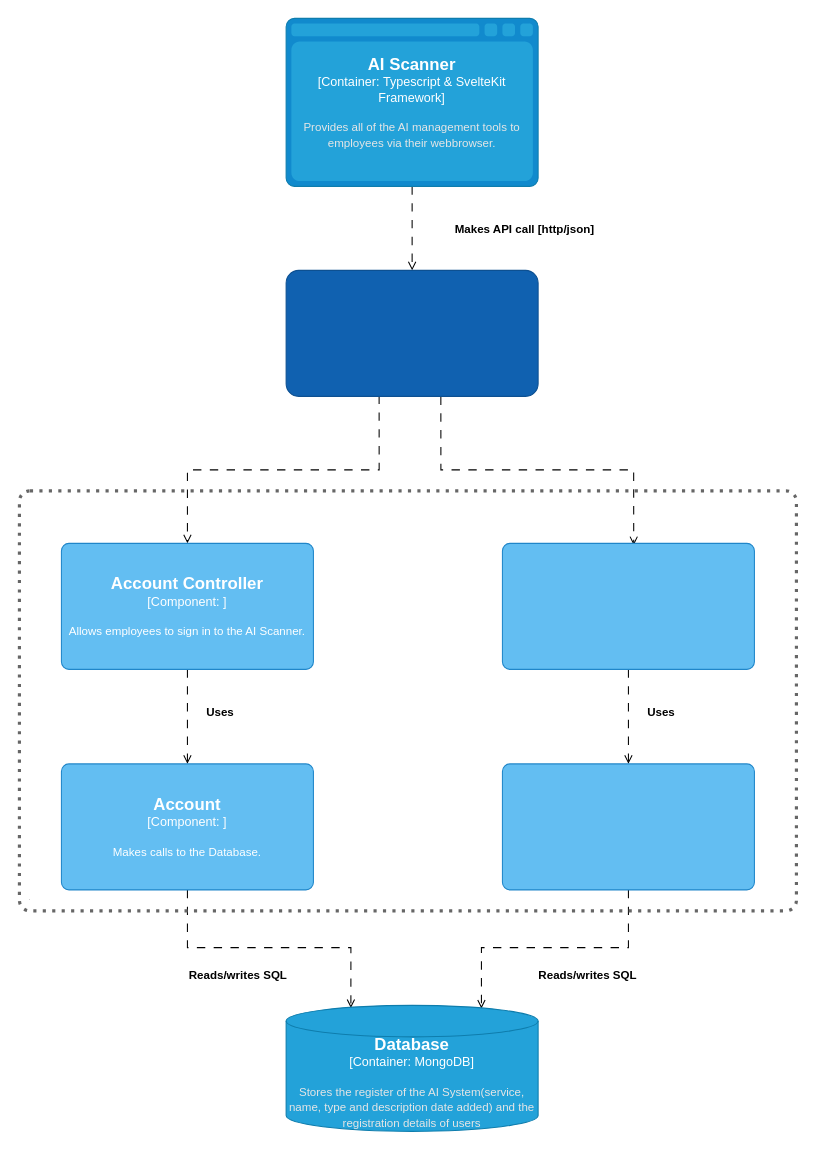
Some shapes in this 816 by 1150 pixel diagram are drawn without their labels. Here are the shapes that lost their labels. From the top down, the centre of each, then its label:
At [411,332]: "API Gateway [Software System] Description of software system.".
At [627,605]: "AI System Controller [Component: ] Allows employees to register AI systems.".
At [627,826]: "AI System [Component: ] Makes calls to the Database.".
